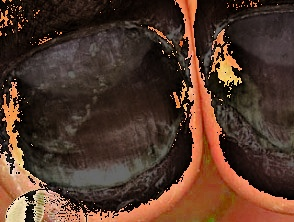Nail_psoriasis: (0, 0, 206, 220), (192, 0, 294, 204)
